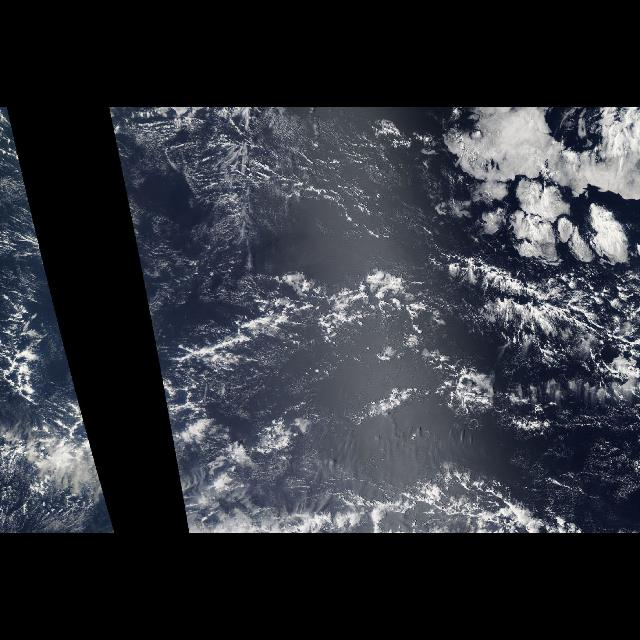Fish: (166, 241, 640, 534)
Flower: (428, 111, 640, 273)
Sugar: (114, 111, 414, 295)
